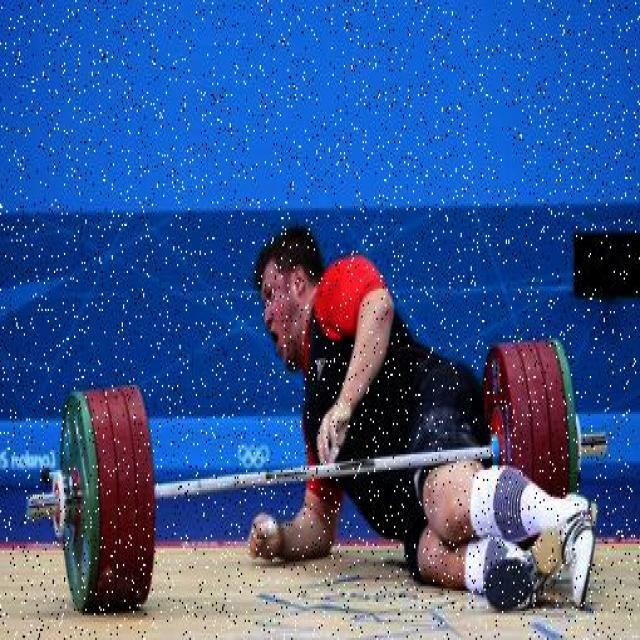fall: (255, 244, 596, 604)
